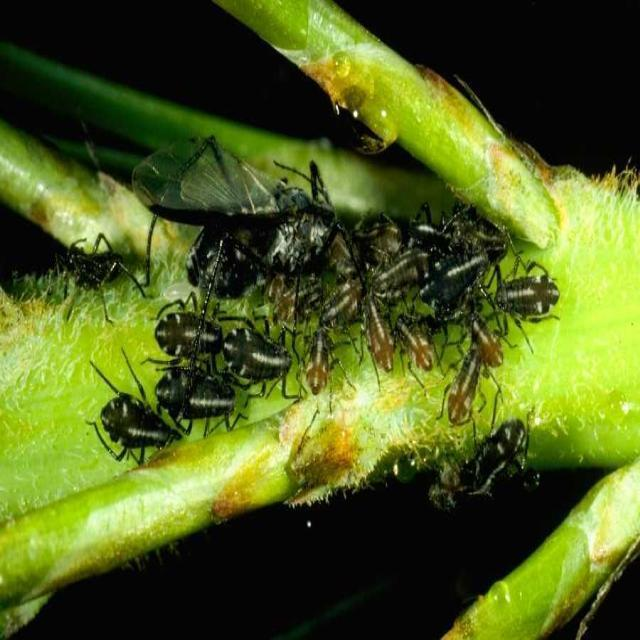Aphids: (487, 249, 569, 362)
